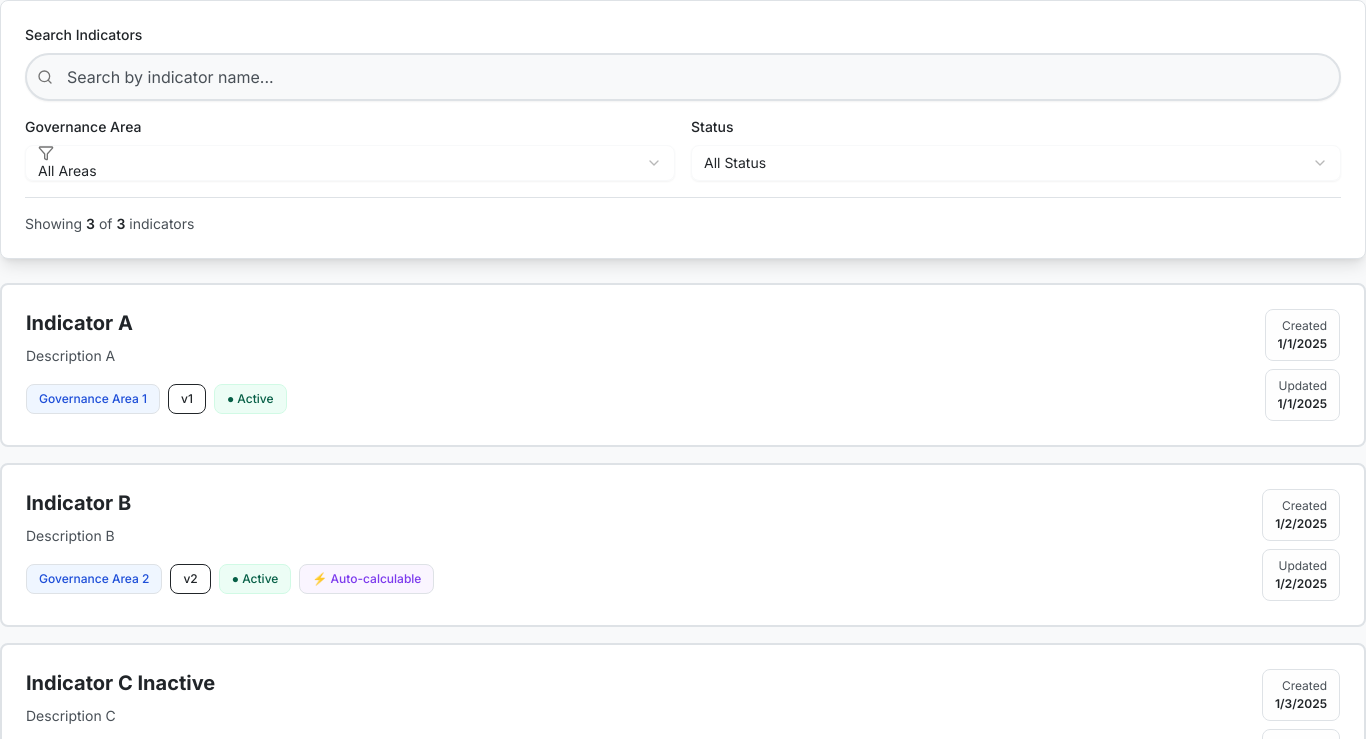
IndicatorList › displays empty state when no indicators match filters
Search for non-existent indicator
Type "NonExistentIndicator" into the field with placeholder "Search by indicator name...". click: (683, 77)
box: [25,53,1341,101]
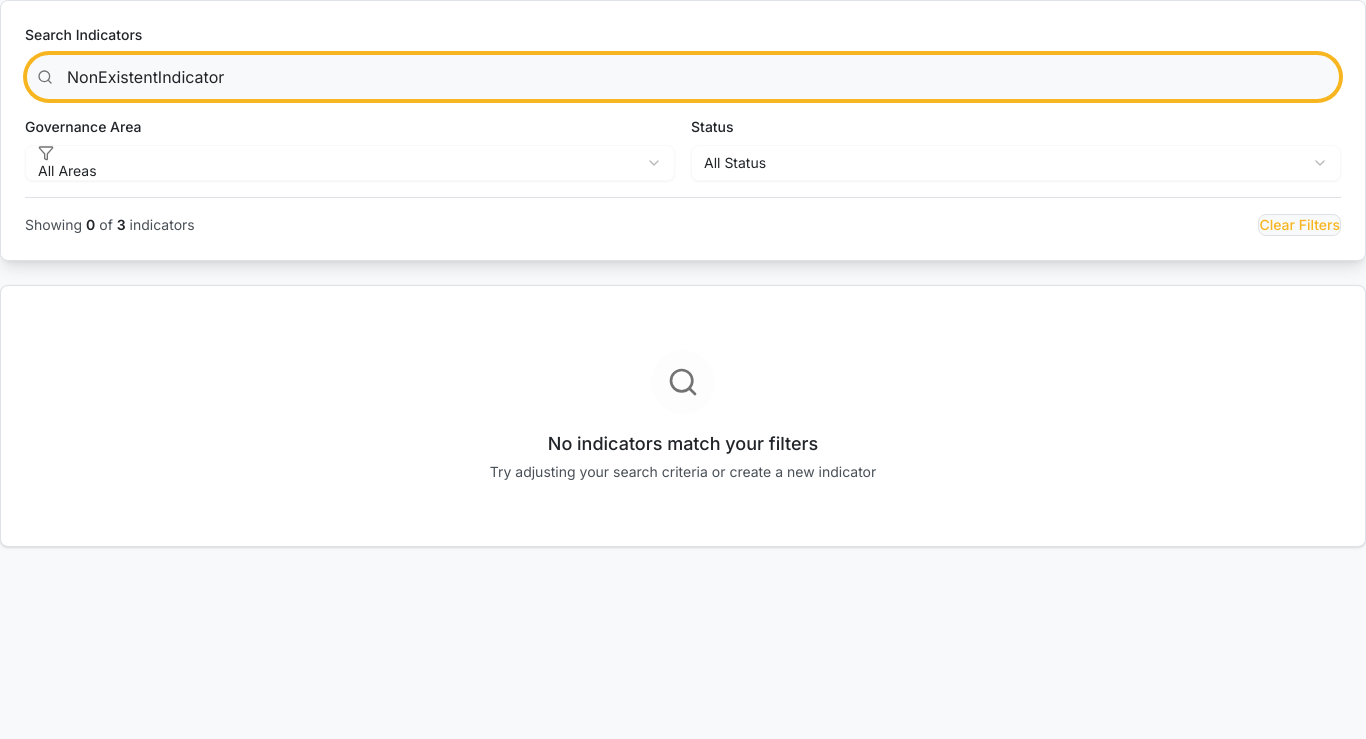
Expected: the text "No indicators match your filters" is shown, [548,433,818,454]
